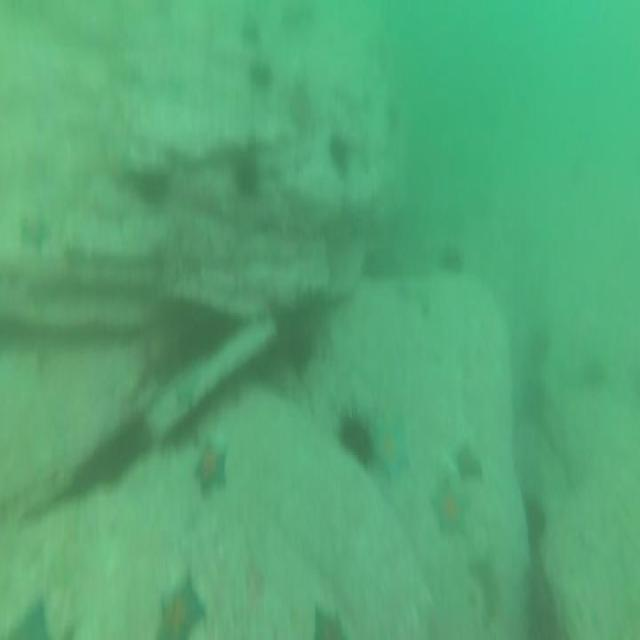echinus: (275, 300, 318, 378), (175, 310, 221, 370), (338, 404, 378, 464), (230, 137, 264, 204), (516, 482, 548, 548), (516, 372, 550, 424), (328, 131, 354, 182), (439, 242, 469, 284), (135, 169, 173, 202), (582, 351, 607, 393), (246, 58, 274, 95), (239, 13, 263, 52)
starfish: (154, 570, 212, 640), (428, 466, 472, 545), (370, 409, 415, 484), (1, 592, 58, 640), (190, 436, 230, 504), (448, 433, 486, 490), (307, 600, 351, 640)
